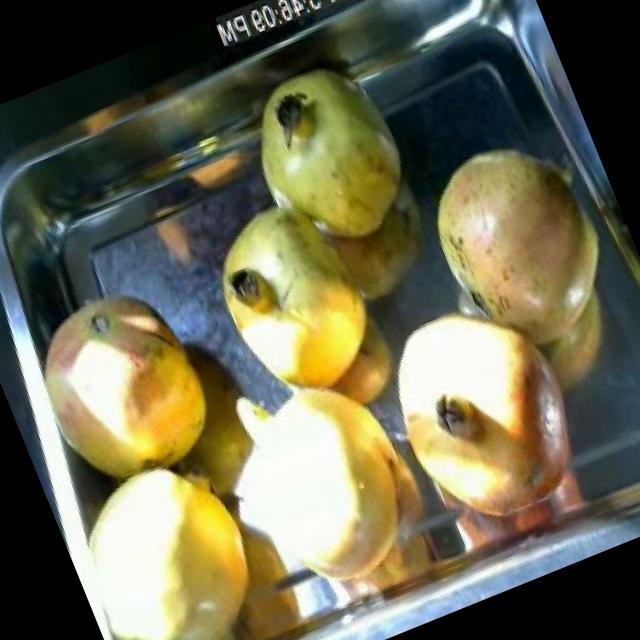fruit: (350, 262, 620, 562), (192, 345, 453, 633), (401, 113, 638, 380), (10, 262, 238, 516), (186, 172, 410, 430), (46, 430, 298, 640), (224, 38, 435, 276)
